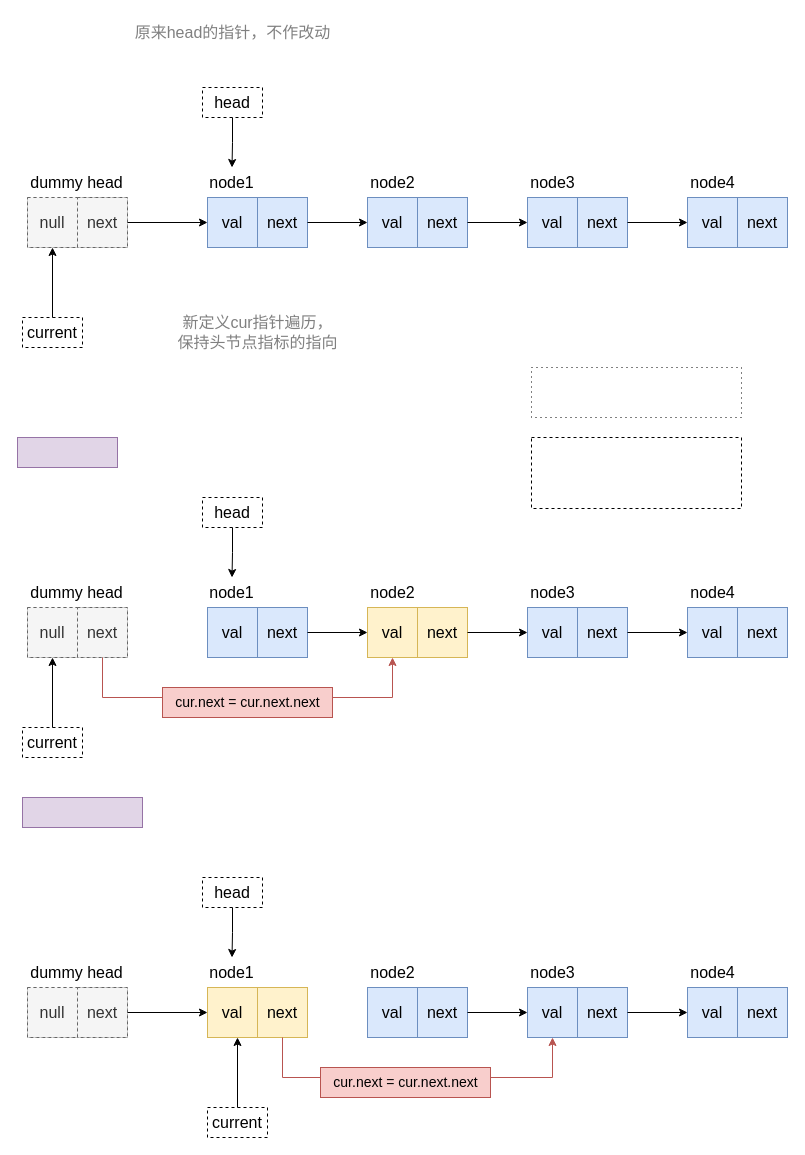
The diagram is 805 pixels wide and 1155 high, and some of its shapes have lost their labels. The centre of each missing label's shape, as x and y in pixels:
"Point: Rerurn dummy_head.next" belongs at (x=636, y=392).
"删除头节点" belongs at (x=67, y=452).
"删除非头节点" belongs at (x=82, y=812).
"移动指针 cur = cur.next" belongs at (x=636, y=472).
